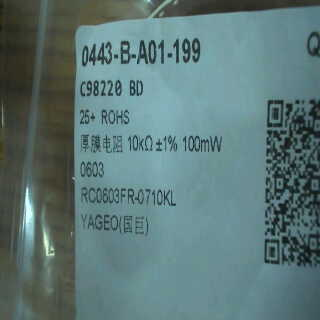10kR: (126, 131, 155, 152)
